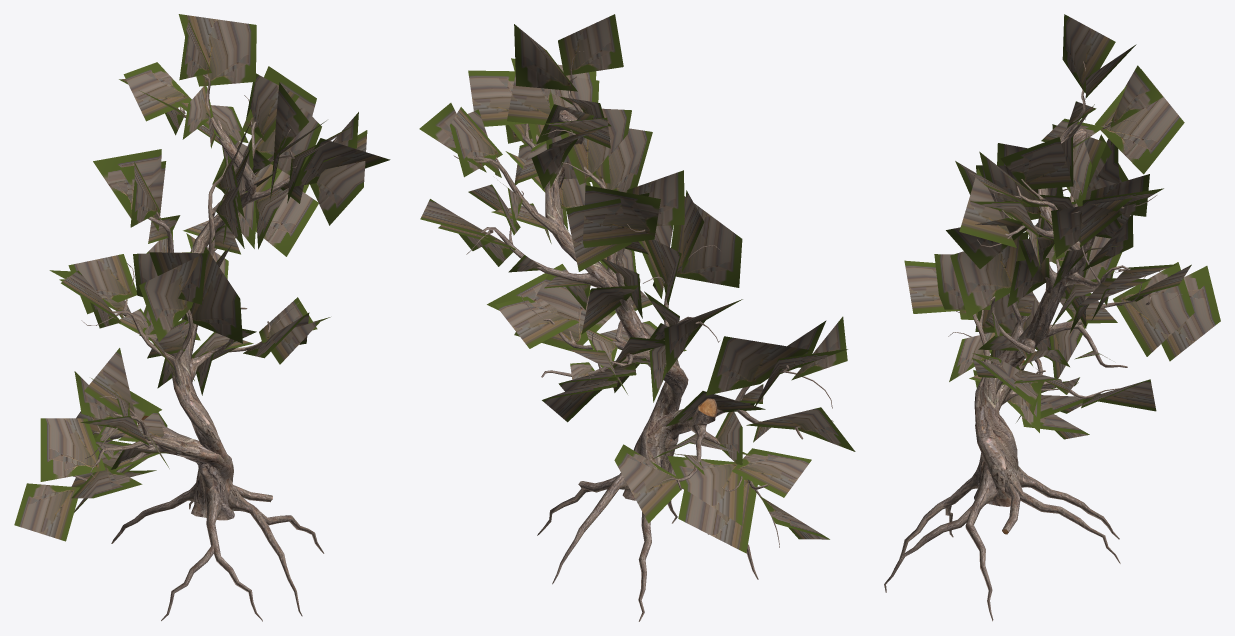
The model's file is oldtree.glb.
3 renders of one model, left to right at view 1: azimuth 30°, elevation 25°; view 2: azimuth 150°, elevation 25°; view 3: azimuth 270°, elevation 25°, orthographic. The views are drawn at different scales.
Parts seen in each view (by area): view 1: Tree_2, Tree_0; view 2: Tree_2, Tree_0; view 3: Tree_2, Tree_0.
Boxes of the visible parts, x1,y1,x2,y2 form: Tree_2: (14,14,390,541); Tree_0: (73,51,336,621); Tree_2: (419,14,855,553); Tree_0: (453,51,833,621); Tree_2: (904,14,1220,439); Tree_0: (884,61,1182,621).
Size of the model in its own units: 5.71 by 8.58 by 4.65.
3 materials, 3 textured.
